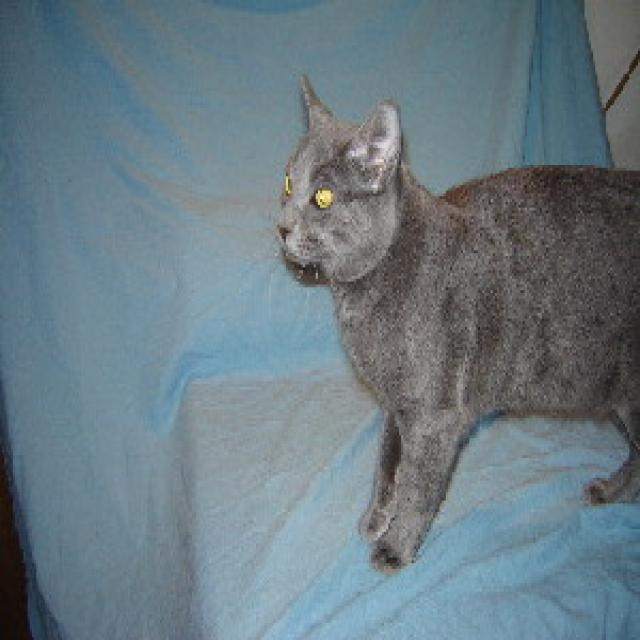Cats: (273, 71, 638, 575)
